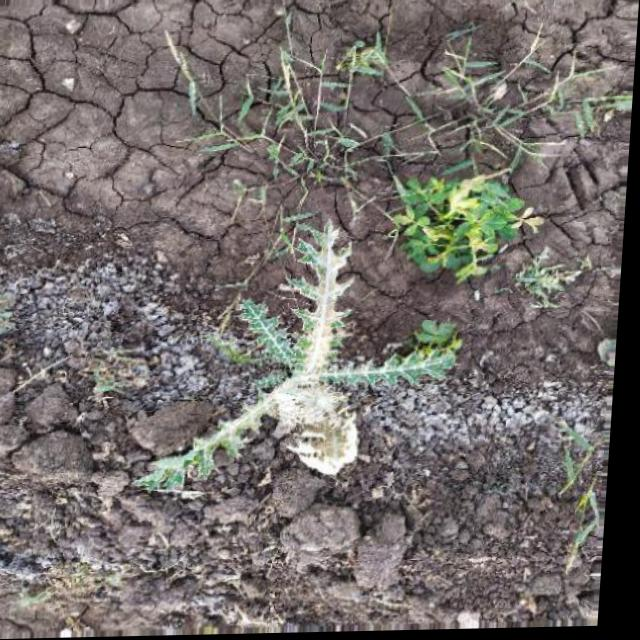weed: (146, 222, 483, 538), (150, 20, 606, 222), (369, 139, 546, 303)
